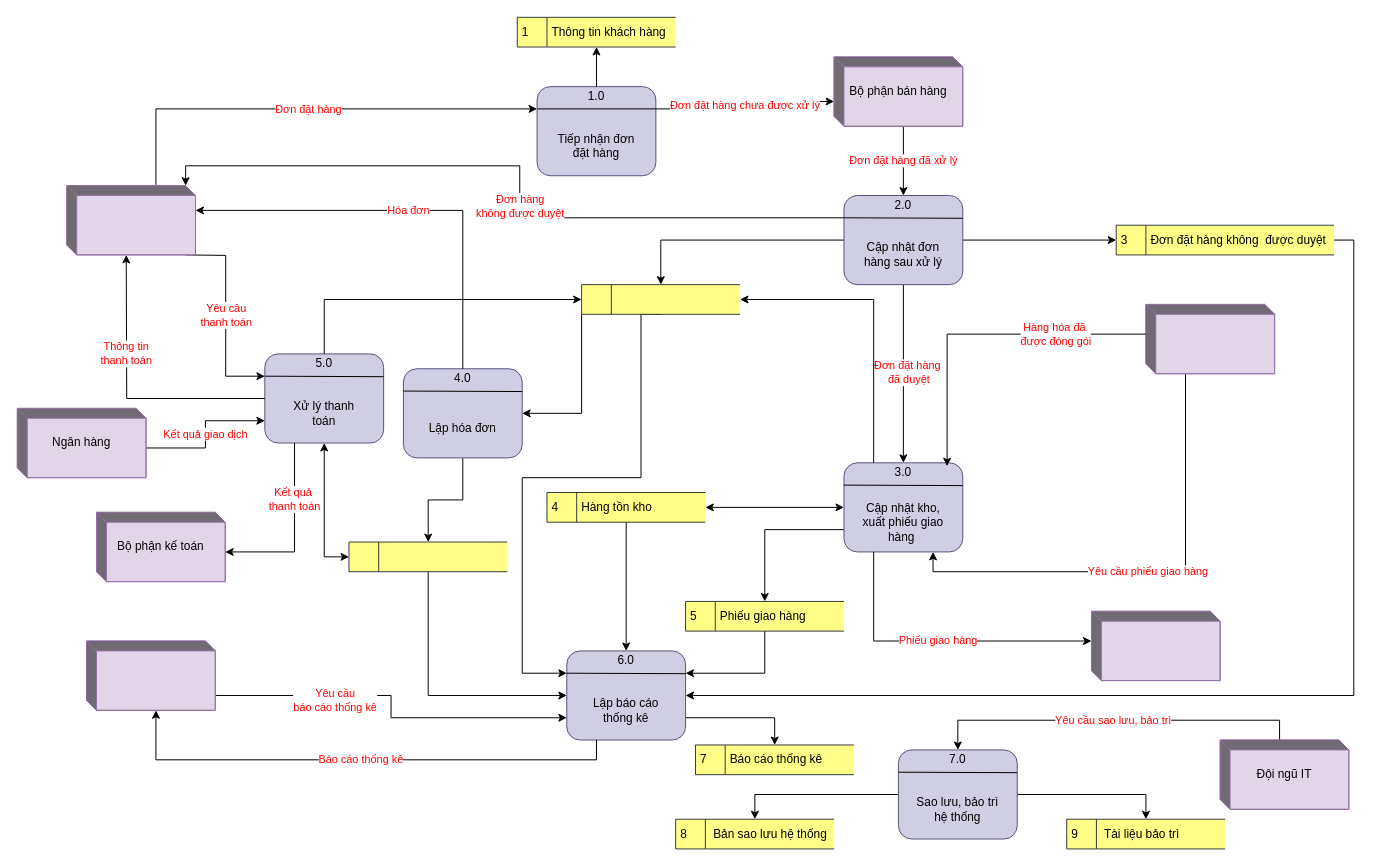
The diagram is 1379 pixels wide and 866 high, and some of its shapes have lost their labels. Here are the shapes that lost their labels. From the top down, the box of each, then its label:
(66, 185, 196, 255): Khách hàng
(581, 284, 740, 314): 2 Đơn đặt hàng đã duyệt
(1145, 303, 1275, 374): Bộ phận kho
(348, 541, 507, 572): 6 Hóa đơn
(1090, 610, 1220, 681): Đơn vị vận chuyển
(86, 640, 215, 710): Ban quản lý
